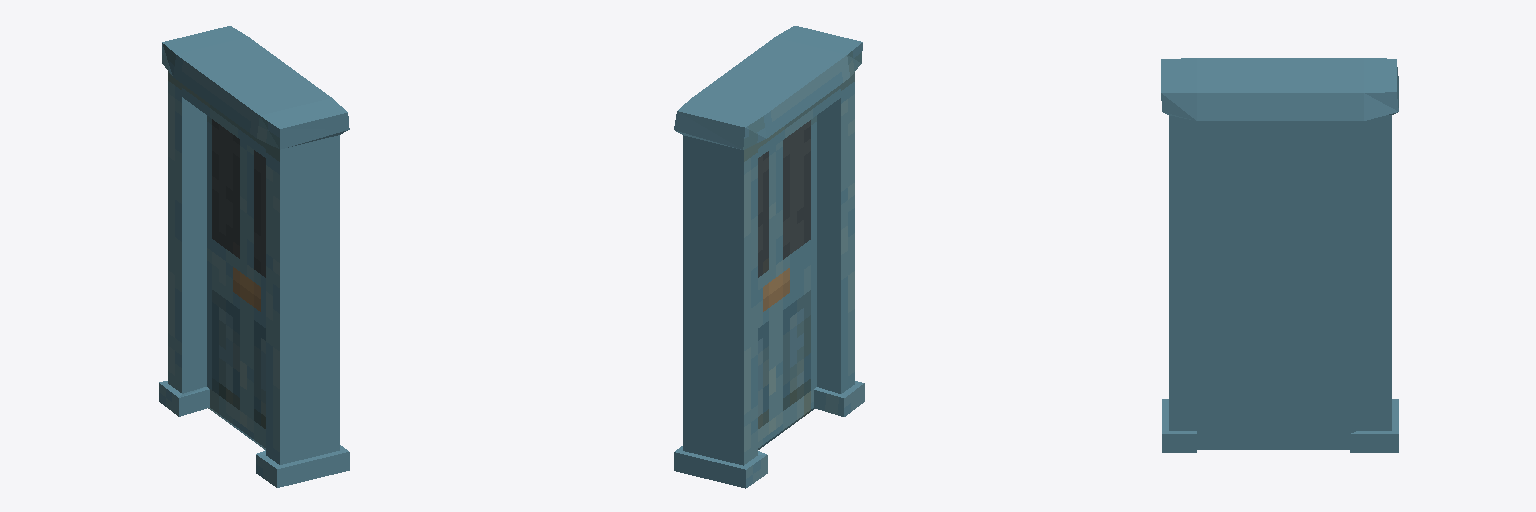
The picture shows the model from 3 angles: view 1: azimuth 30°, elevation 25°; view 2: azimuth 150°, elevation 25°; view 3: azimuth 270°, elevation 25°; orthographic projection.
Visible parts, largest first — view 1: cube; view 2: cube; view 3: cube.
Boxes of the visible parts, <box> form: cube: <box>159,26,349,487</box>; cube: <box>674,26,864,488</box>; cube: <box>1161,58,1398,452</box>.
Bounding box in the file's own units: 0.4219 × 1.78 × 1.07.
1 materials, 1 textured.